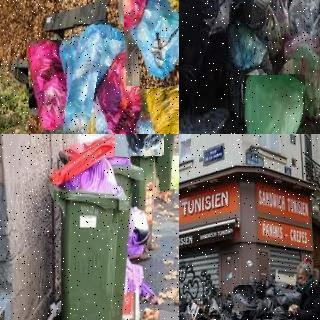Garbage: (58, 18, 125, 134), (93, 40, 160, 134), (124, 0, 179, 85), (179, 0, 233, 86), (28, 39, 72, 134), (243, 74, 306, 134), (140, 65, 179, 134), (227, 23, 269, 70), (179, 20, 191, 121), (114, 134, 163, 156), (234, 285, 257, 311)
